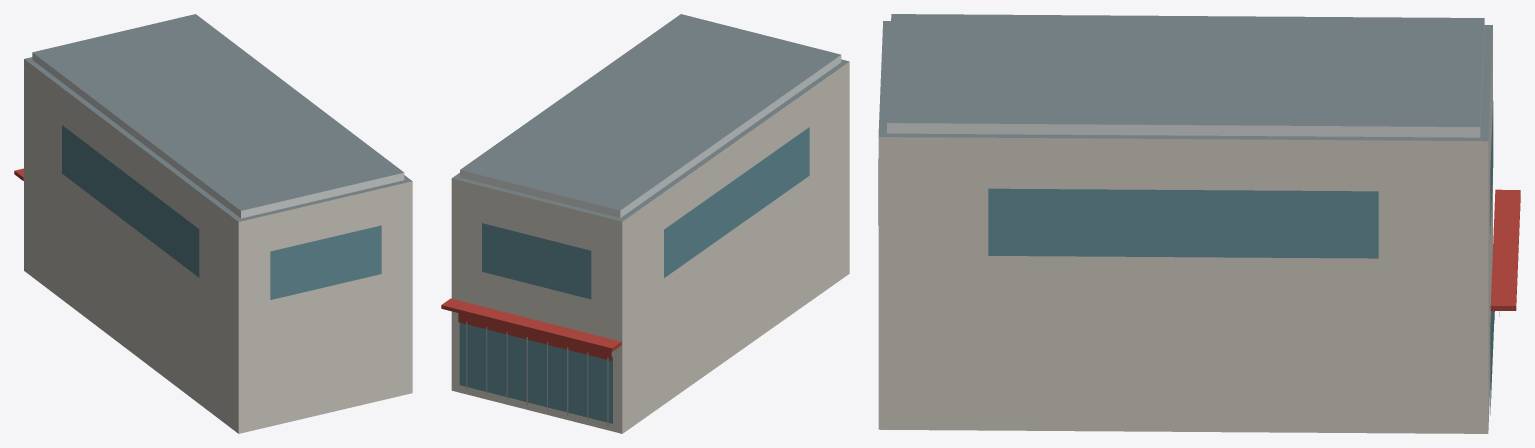
3 views of the same model, side by side, from view 1: azimuth 30°, elevation 25°; view 2: azimuth 150°, elevation 25°; view 3: azimuth 270°, elevation 25° (orthographic). The views are drawn at different scales.
Visible parts, largest first — view 1: ganso-ramen-nagahamake; view 2: ganso-ramen-nagahamake; view 3: ganso-ramen-nagahamake.
Boxes of the visible parts, <box> form: ganso-ramen-nagahamake: <box>14,14,412,433</box>; ganso-ramen-nagahamake: <box>441,14,849,433</box>; ganso-ramen-nagahamake: <box>878,14,1520,433</box>.
Size of the model in its own units: 6.15 by 7.22 by 13.87.
